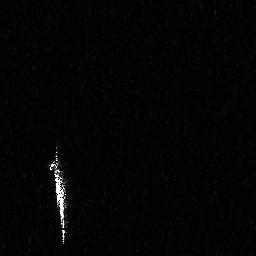ship: (47, 143, 73, 246)
